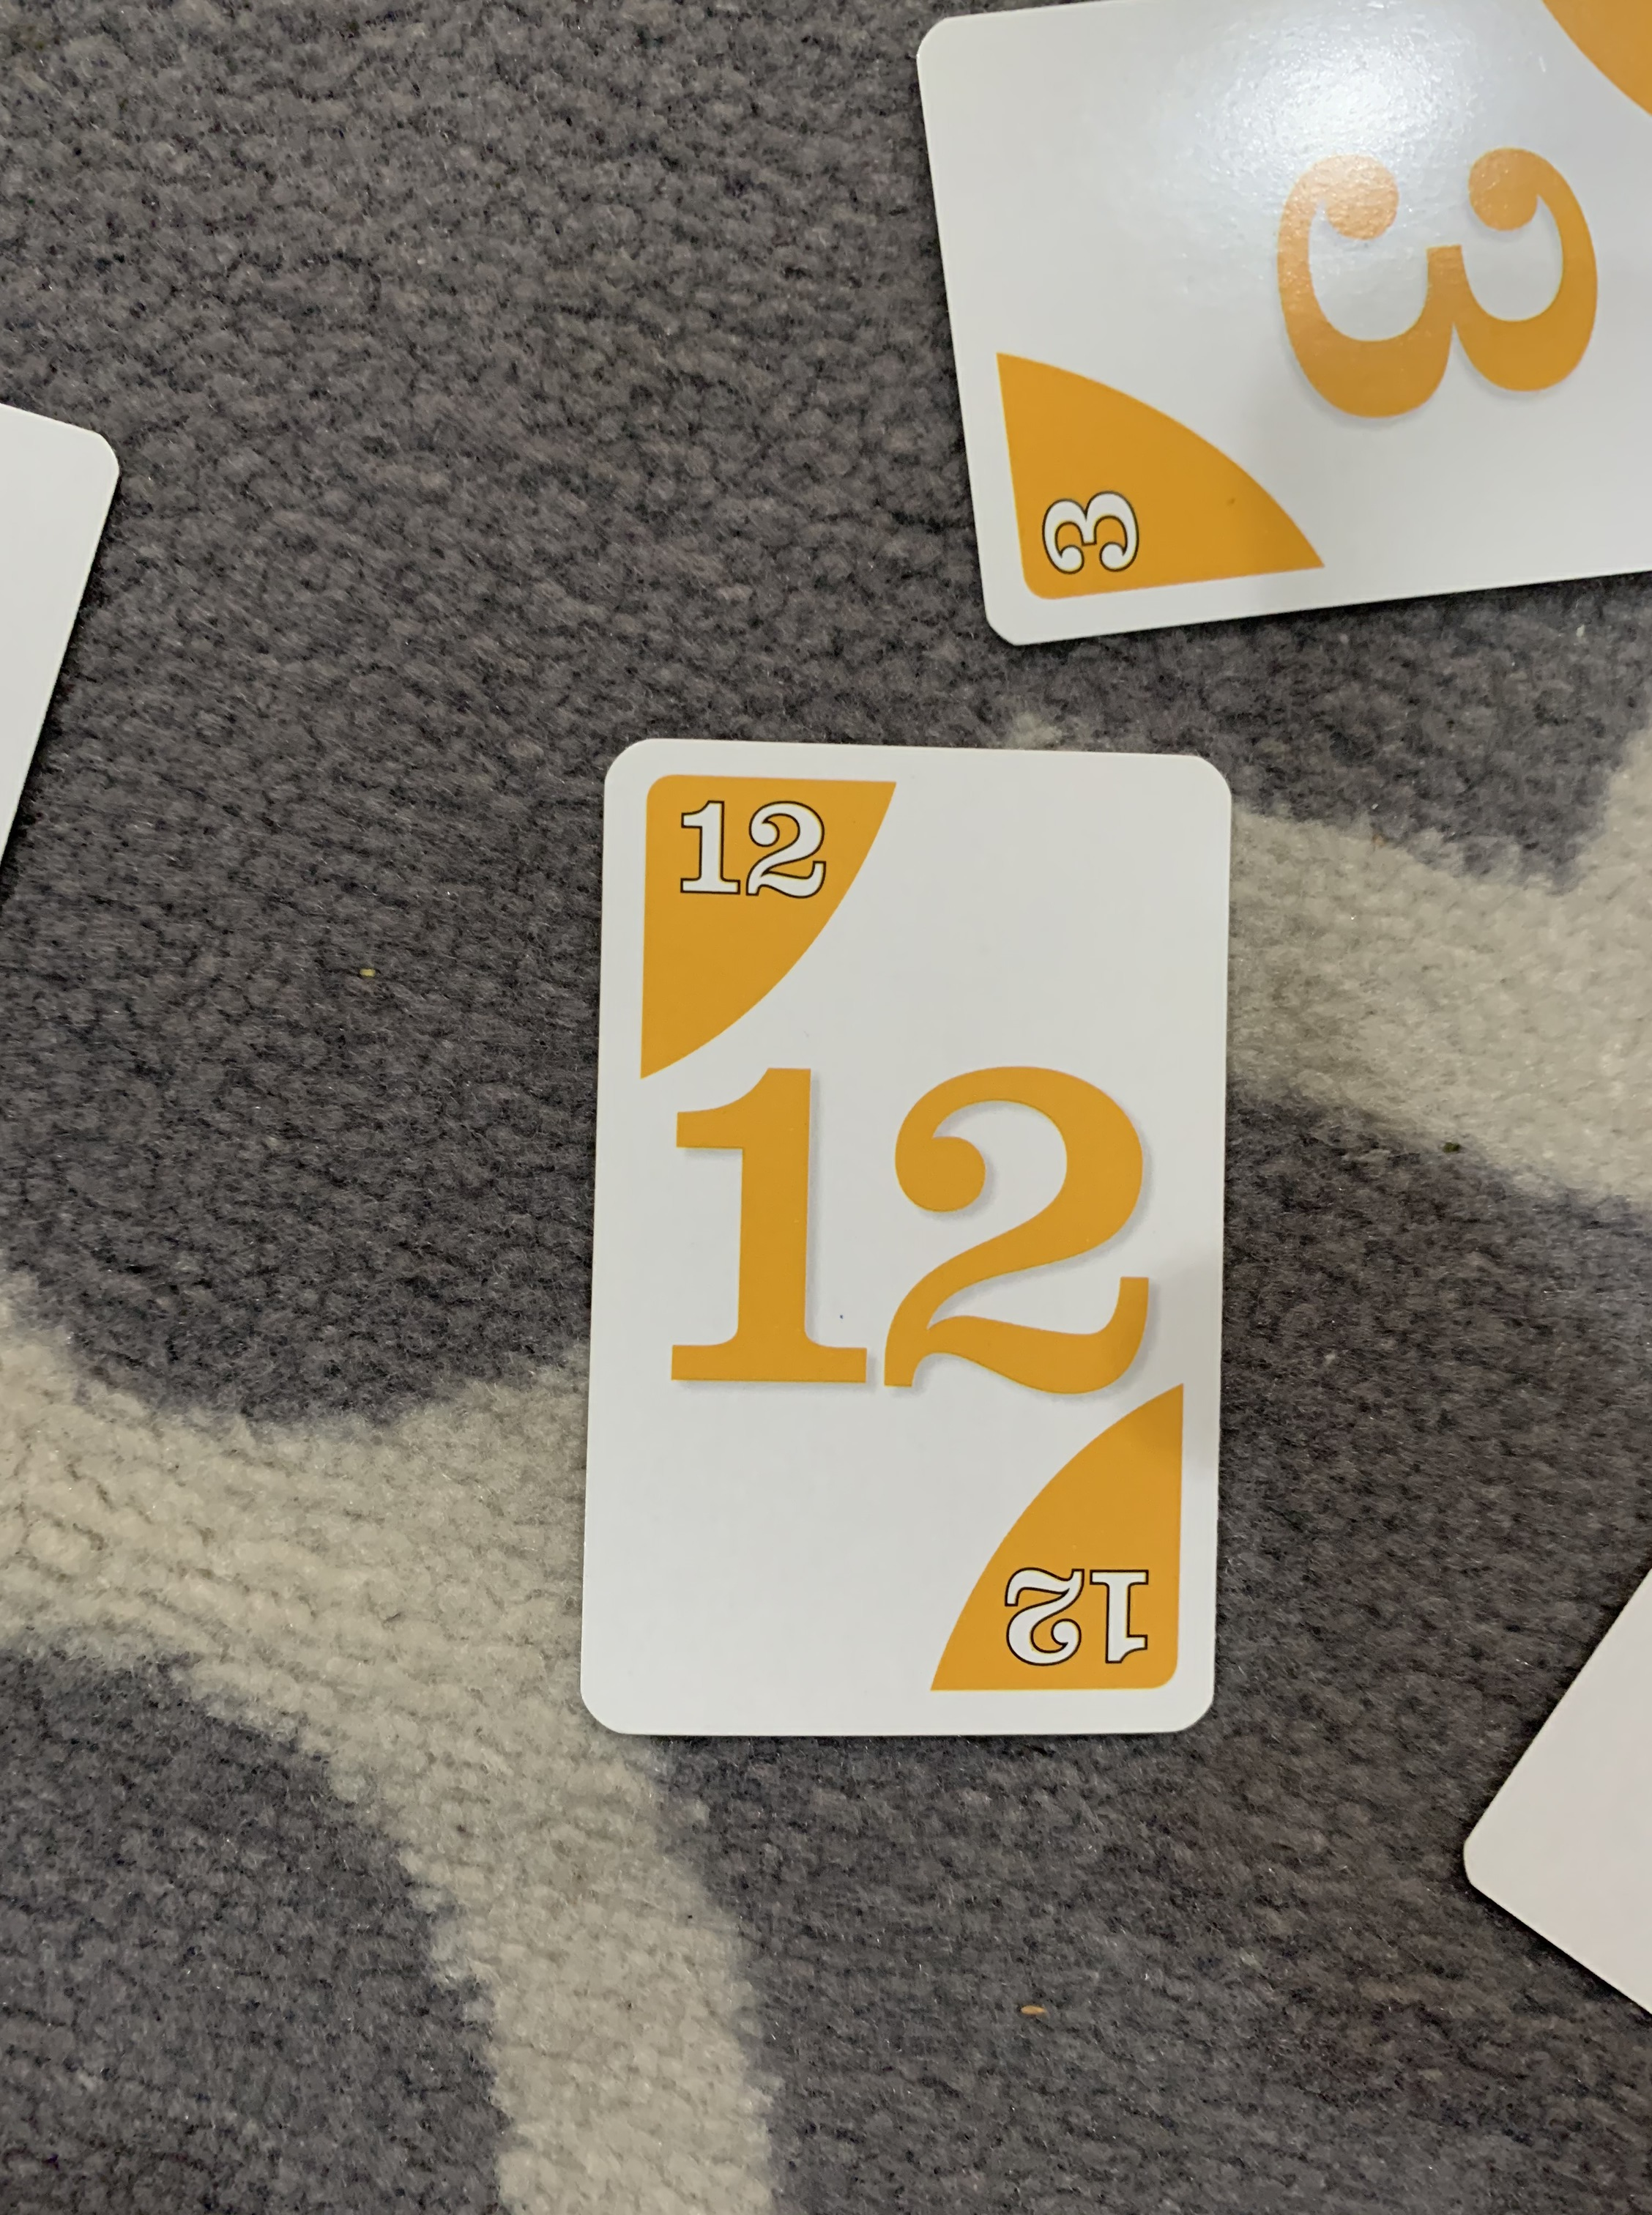twelve: (559, 719, 1244, 1772)
